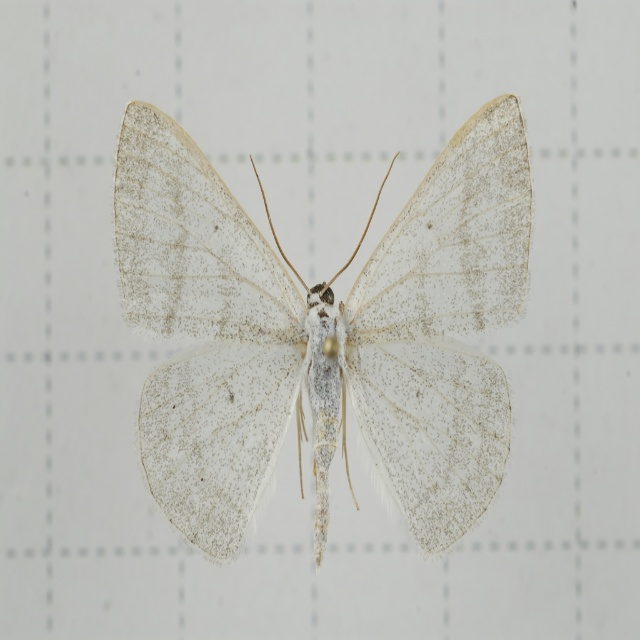Butterfly: (110, 104, 524, 582)
